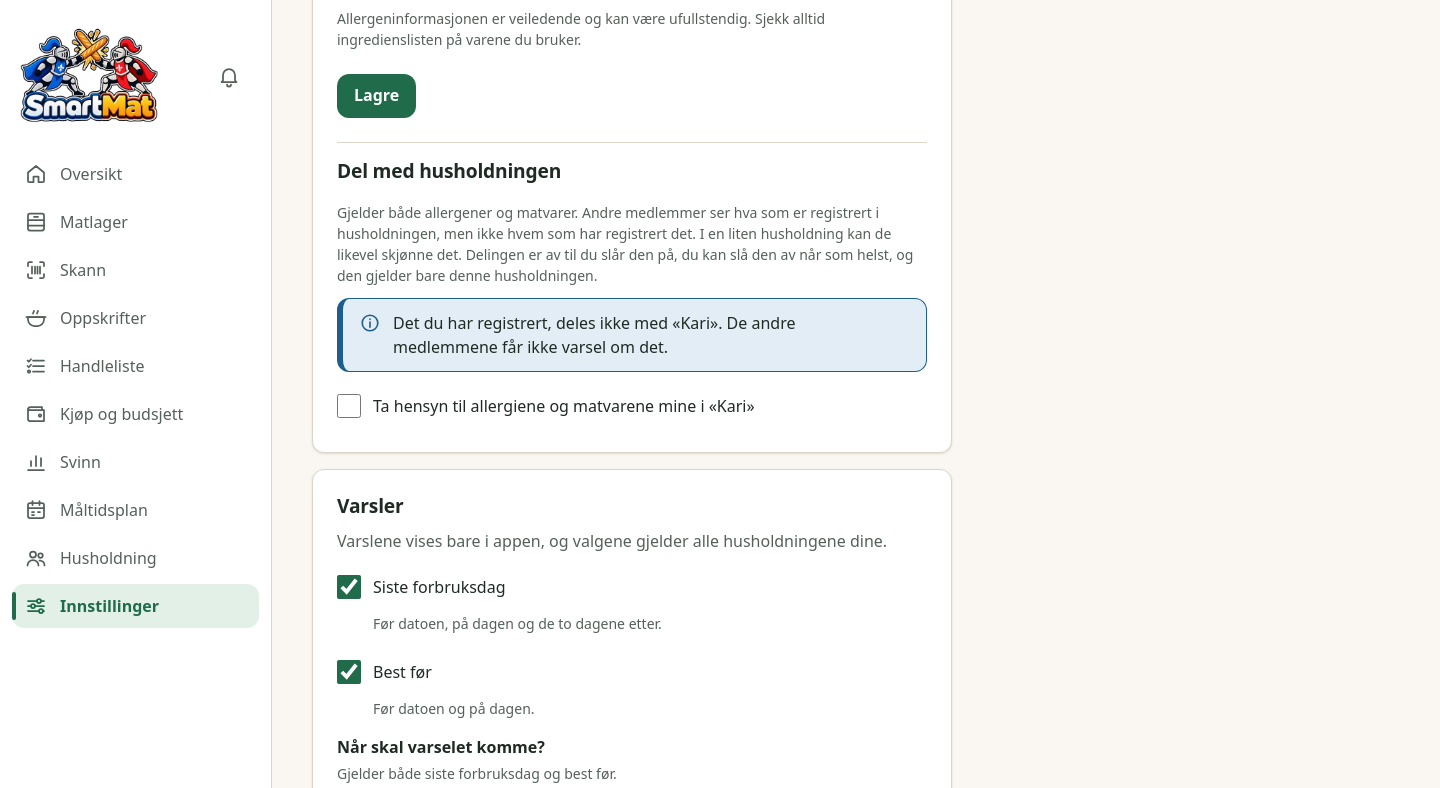
spec 16 decision 3: sharing is the user’s own choice › is off by default and is never sent on its own; it covers both allergens and foods
(page scrolled)
Check: the text "men ikke hvem som har registrert det" is shown, box top-left (337, 203), bottom-right (913, 285)
Click the checkbox labelled "Ta hensyn til allergiene og matvarene mine i «Kari»".
click(349, 406)  # box top-left (337, 394), bottom-right (361, 418)
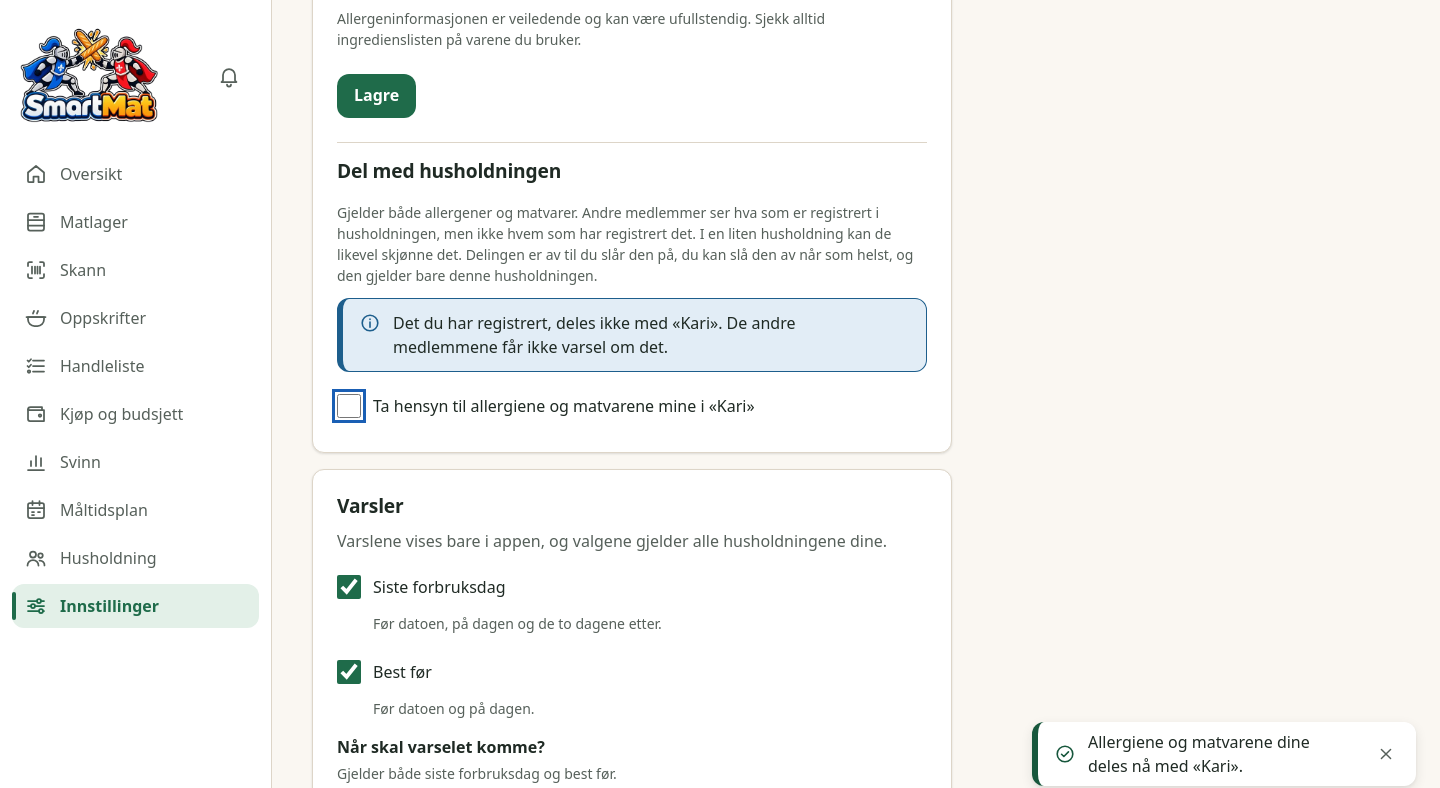
Check: the text "Allergiene og matvarene dine deles nå med «Kari»." is shown, box top-left (1087, 730), bottom-right (1310, 777)
